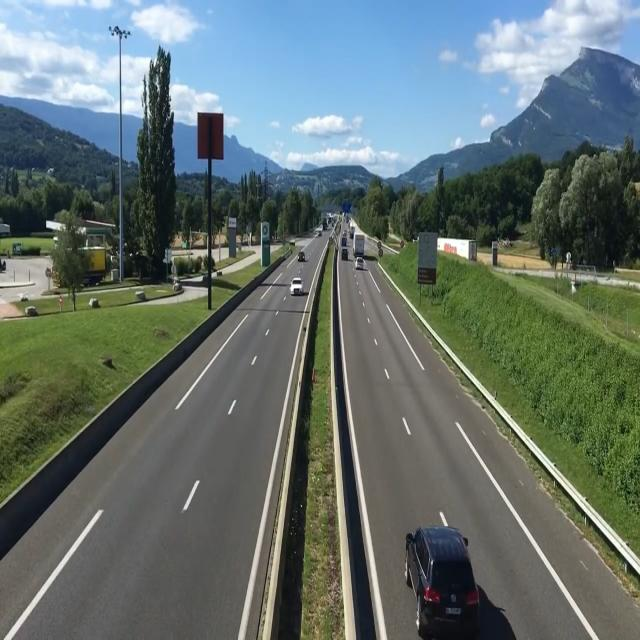car: (406, 518, 484, 640), (290, 272, 305, 302), (296, 247, 306, 265)
truck: (351, 230, 367, 260)
